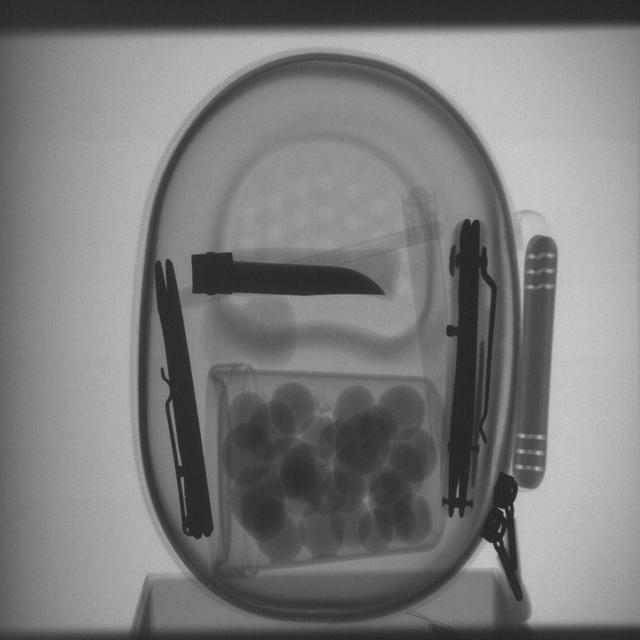knife: (196, 248, 389, 314)
